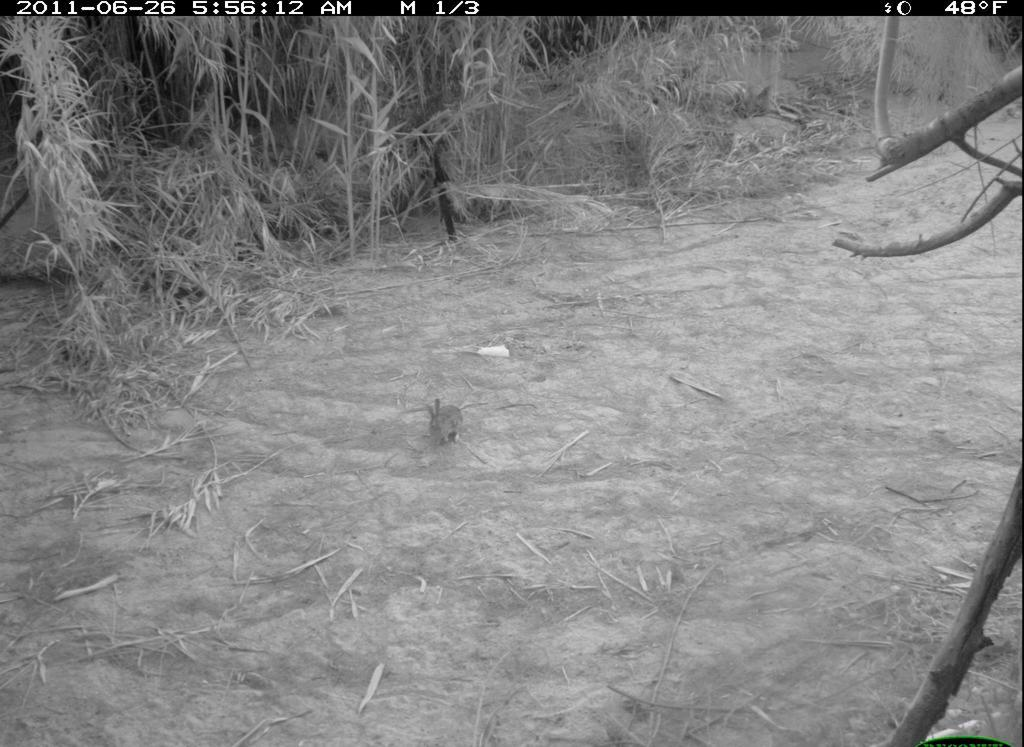rabbit: (411, 388, 473, 449)
